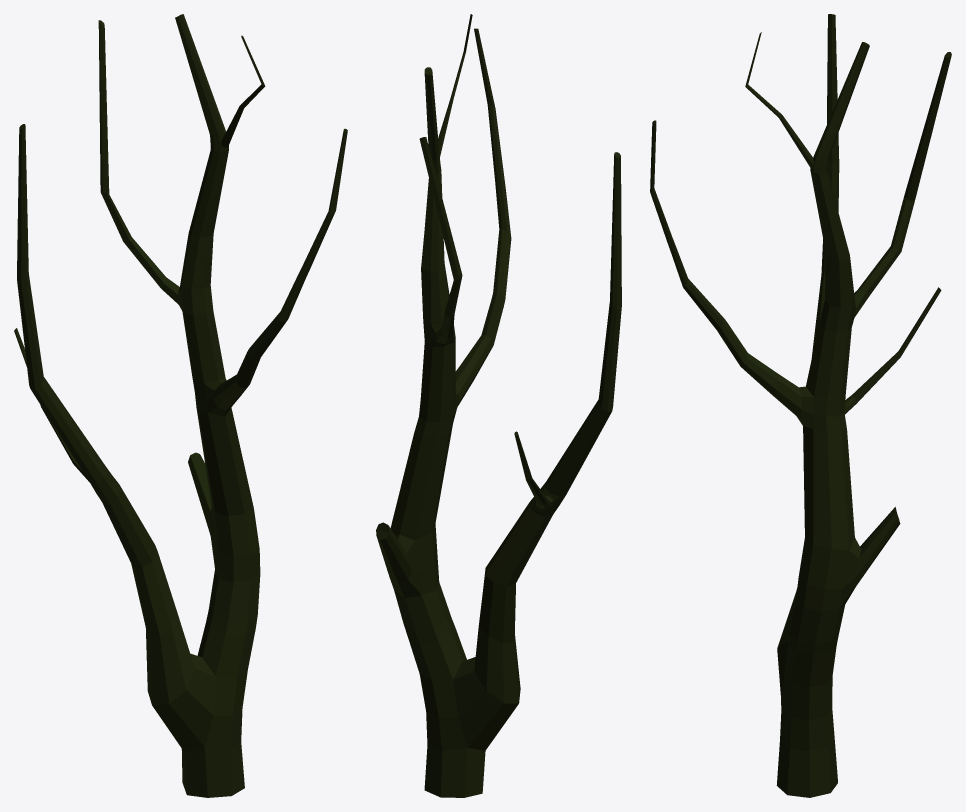
Rendered from deadtree2_treese_0_lev1.glb.
3 views of the same model, side by side, from view 1: azimuth 30°, elevation 25°; view 2: azimuth 150°, elevation 25°; view 3: azimuth 270°, elevation 25° (orthographic).
Parts seen in each view (by area): view 1: deadtree2_treese_0_lev1; view 2: deadtree2_treese_0_lev1; view 3: deadtree2_treese_0_lev1.
Boxes of the visible parts, x1=… form: deadtree2_treese_0_lev1: x1=14, y1=14, x2=347, y2=797; deadtree2_treese_0_lev1: x1=376, y1=14, x2=621, y2=797; deadtree2_treese_0_lev1: x1=650, y1=14, x2=951, y2=797.
Bounding box in the file's own units: 0.9096 × 2.78 × 1.01.
